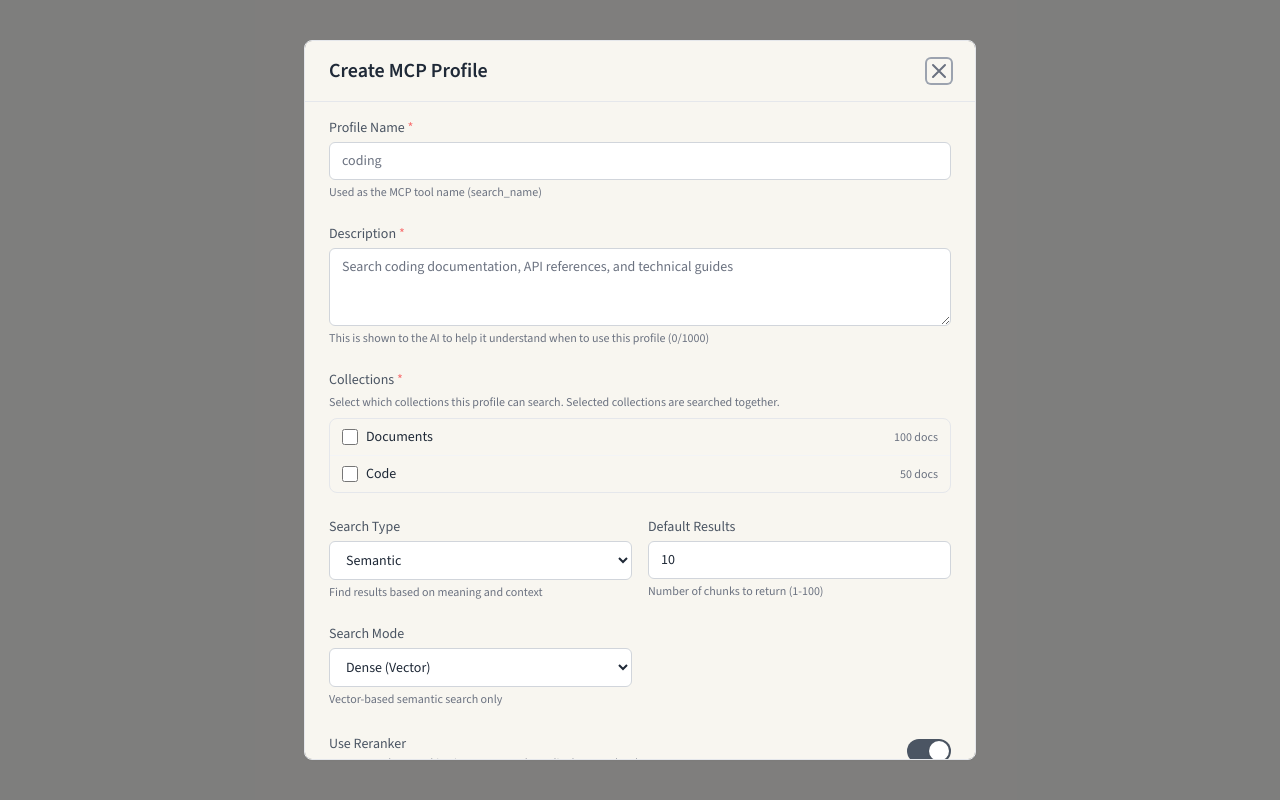
ProfileFormModal › Form Validation › should show error for empty name
Note: Fill description and select collection
Type "Test description" into the text box labelled "Description *" at (640, 287), box [329,248,951,326]
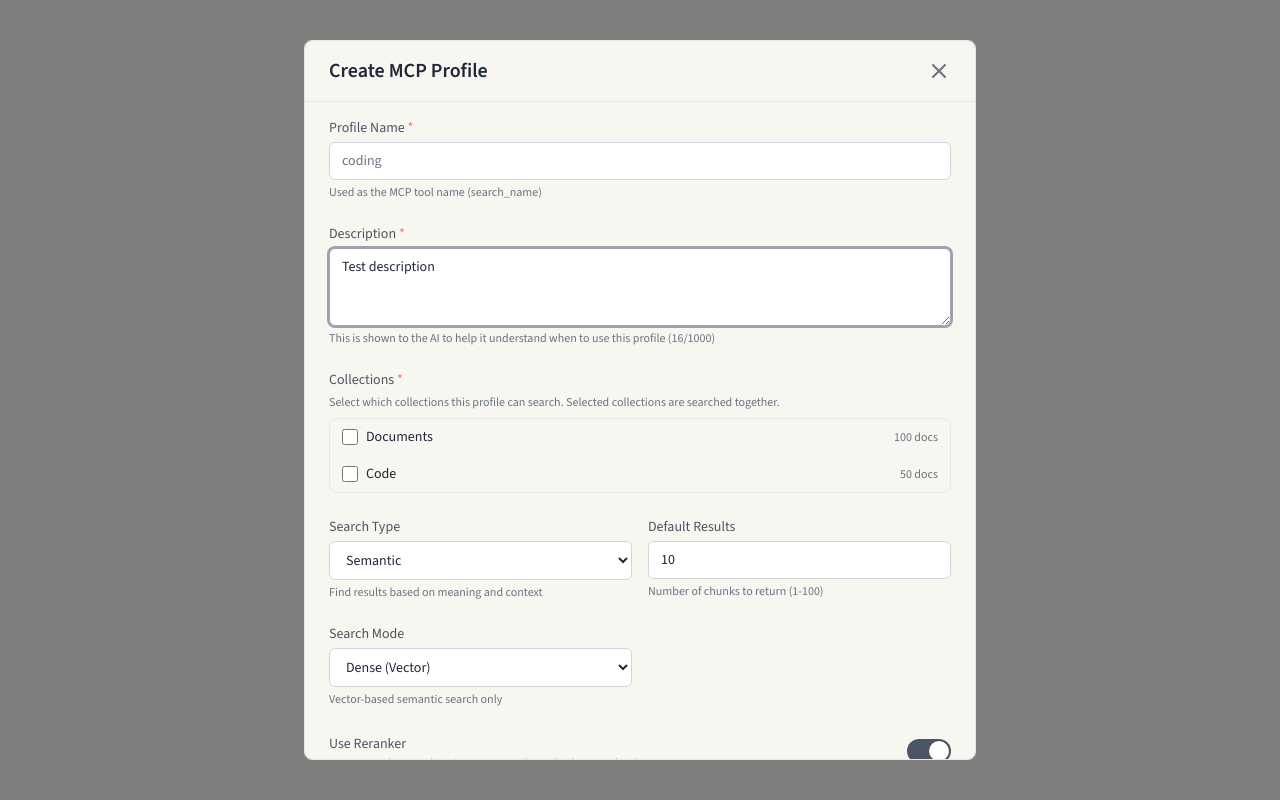
Click the checkbox labelled "Documents 100 docs" at (350, 437), box [342,429,358,445]
(page scrolled)
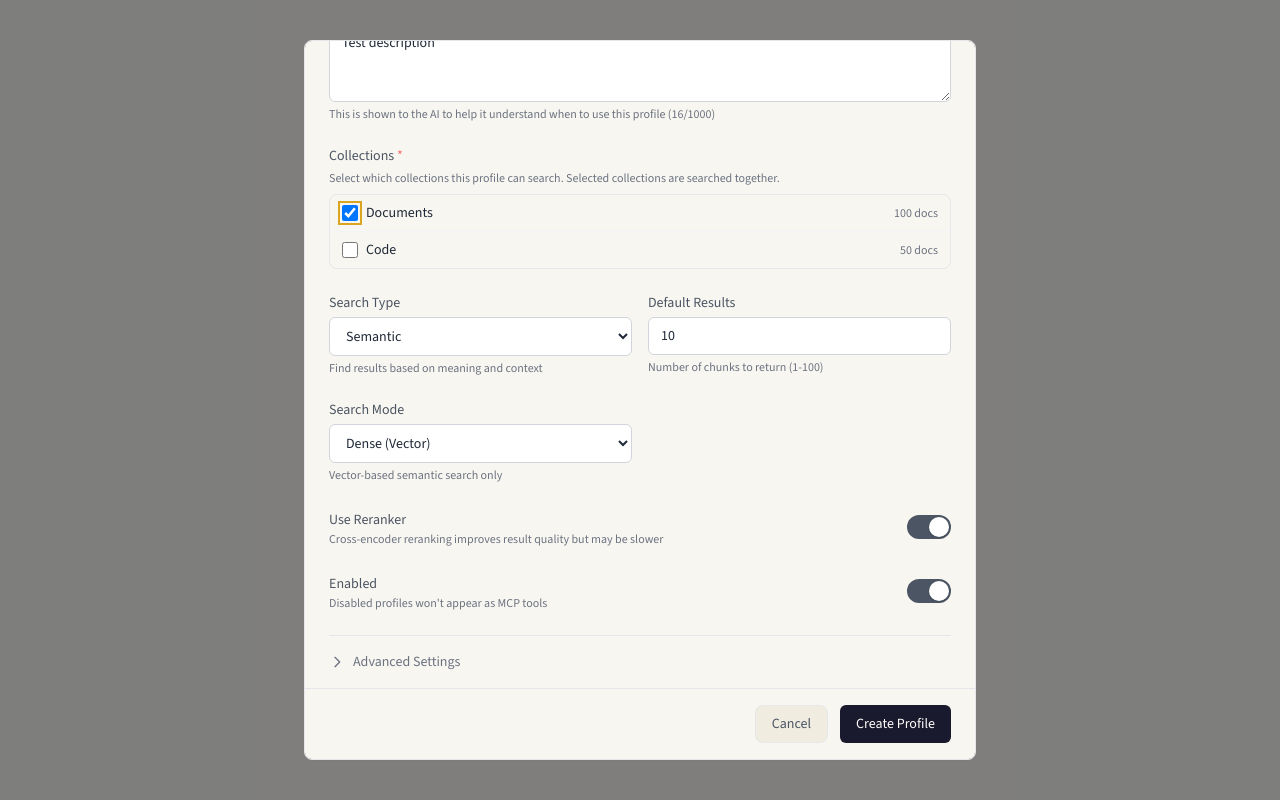
Click the button "Create Profile" at (896, 724), box [840,705,951,743]
(page scrolled)
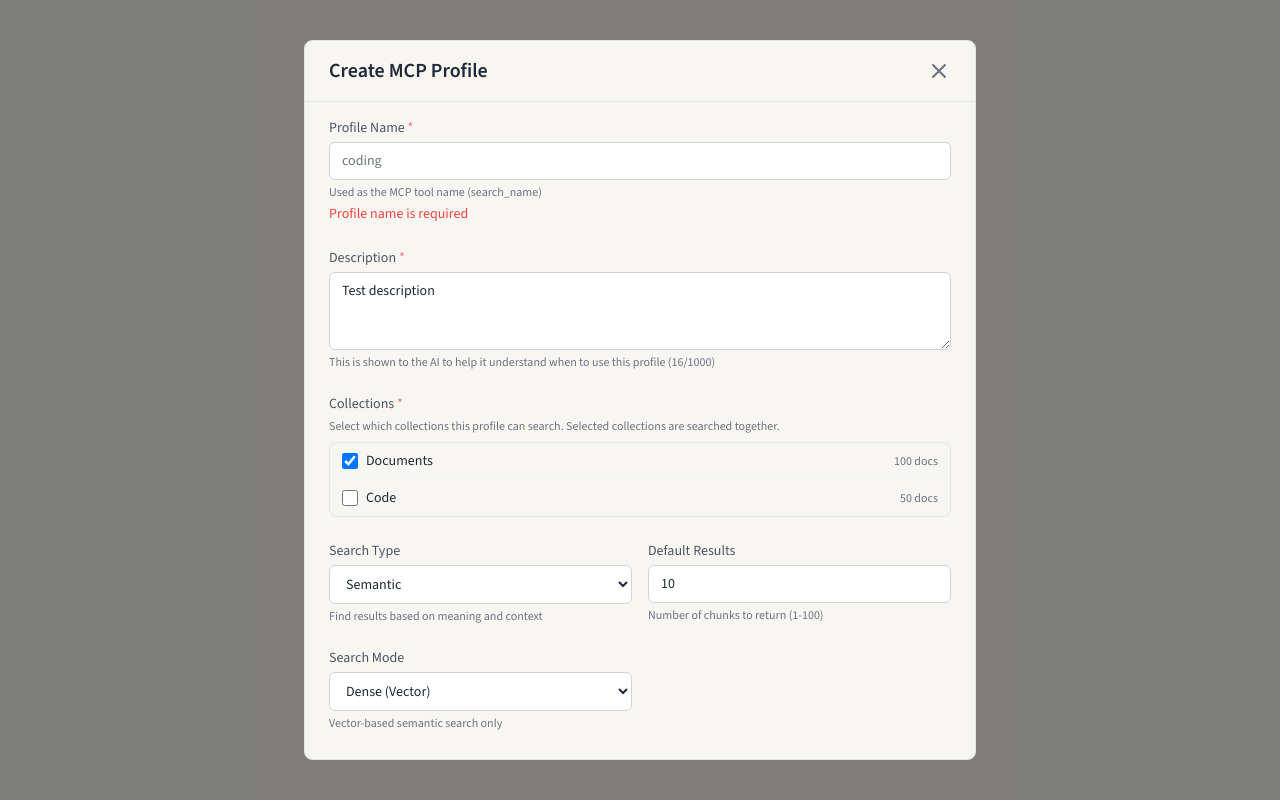
Expected: the text "Profile name is required" is shown, [329,204,468,223]
